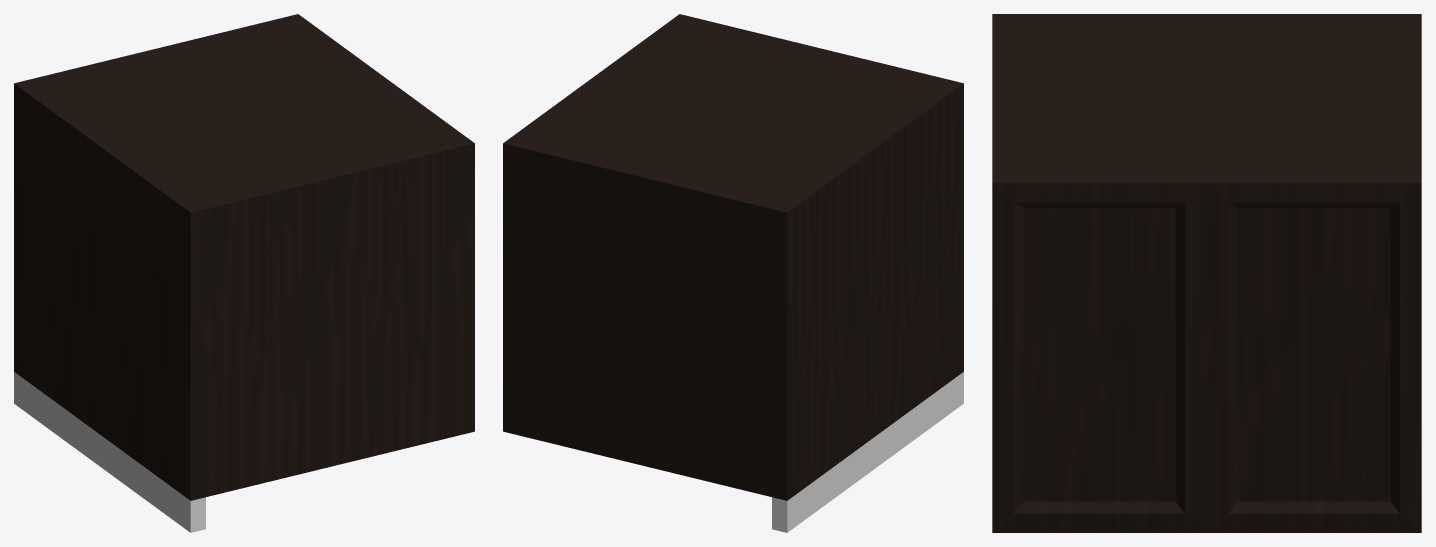
Rendered from Cupboard.fbx.
The picture shows the model from 3 angles, left to right: view 1: azimuth 30°, elevation 25°; view 2: azimuth 150°, elevation 25°; view 3: azimuth 270°, elevation 25°; orthographic projection. The views are drawn at different scales.
Parts seen in each view (by area): view 1: Cube.003; view 2: Cube.003; view 3: Cube.003.
Part boxes in pixels (x1,y1,x2,y2): Cube.003: (14,14,474,532); Cube.003: (503,14,963,532); Cube.003: (992,14,1421,532).
Size of the model in its own units: 186 by 200 by 200.
2 materials, 1 textured.
